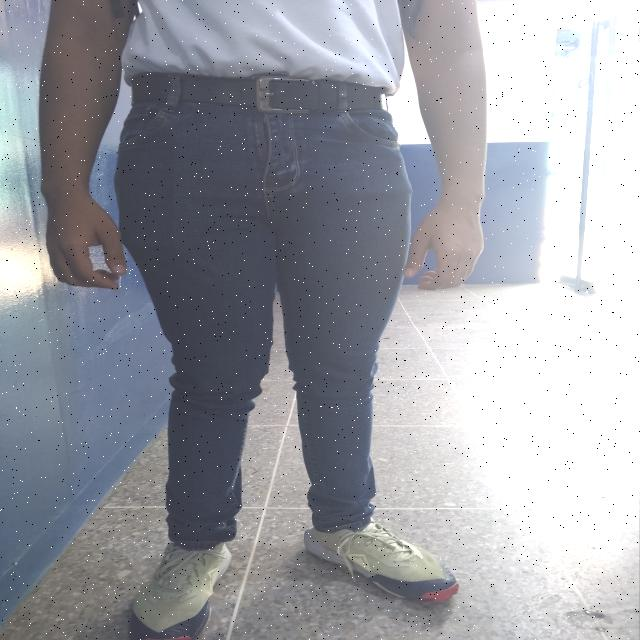pantalon_oscuro: (113, 102, 414, 553)
